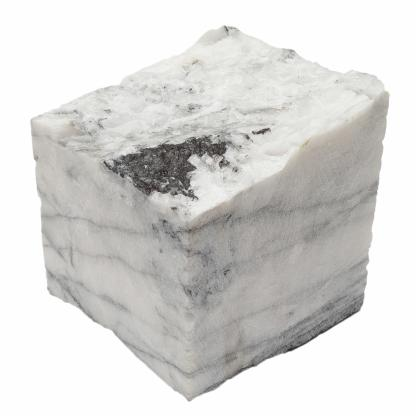Sedimentary_Limestone: (26, 31, 394, 401)
